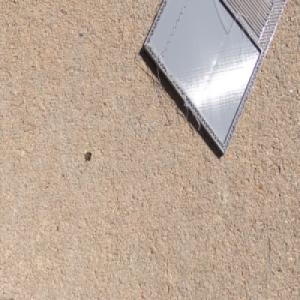PlasticPart: (141, 0, 289, 156)
